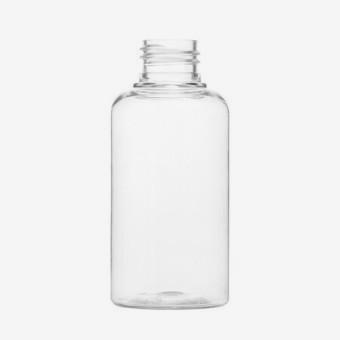bottle: (109, 36, 228, 308)
